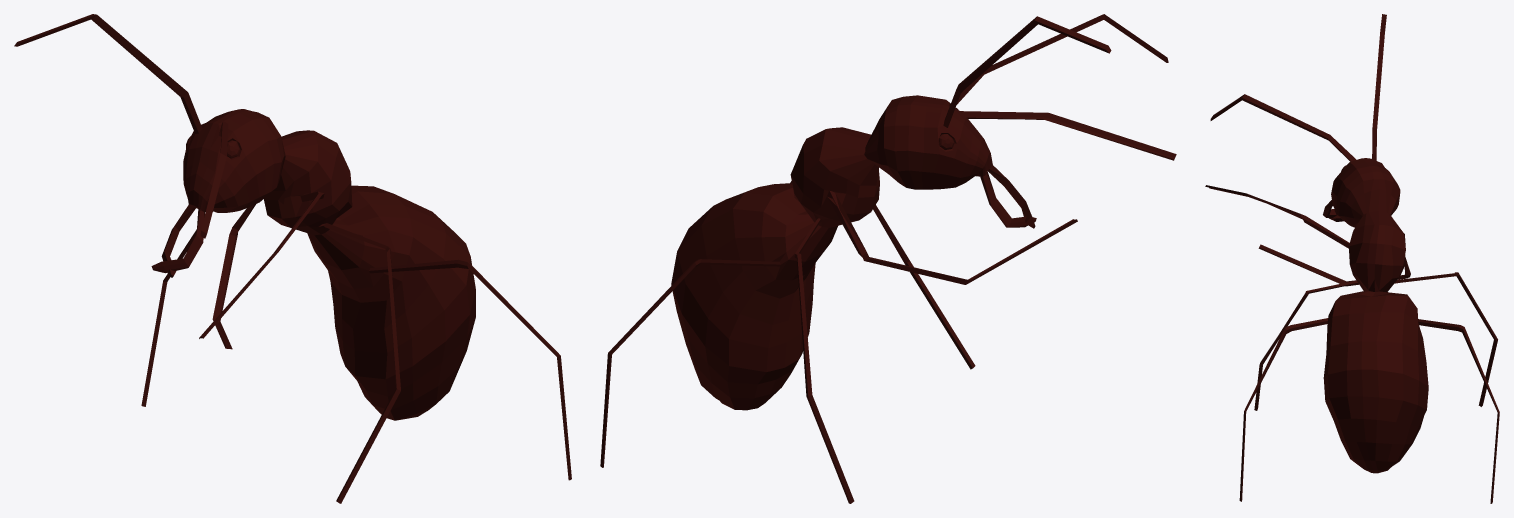
File: worker.obj
The picture shows the model from 3 angles, left to right: view 1: azimuth 30°, elevation 25°; view 2: azimuth 150°, elevation 25°; view 3: azimuth 270°, elevation 25°; orthographic projection. The views are drawn at different scales.
Parts seen in each view (by area): view 1: Icosphere; view 2: Icosphere; view 3: Icosphere.
Part boxes in pixels (bbox=[...]): Icosphere: bbox=[14, 14, 571, 503]; Icosphere: bbox=[600, 14, 1176, 503]; Icosphere: bbox=[1205, 14, 1499, 503].
Size of the model in its own units: 7.19 by 7.43 by 5.74.
